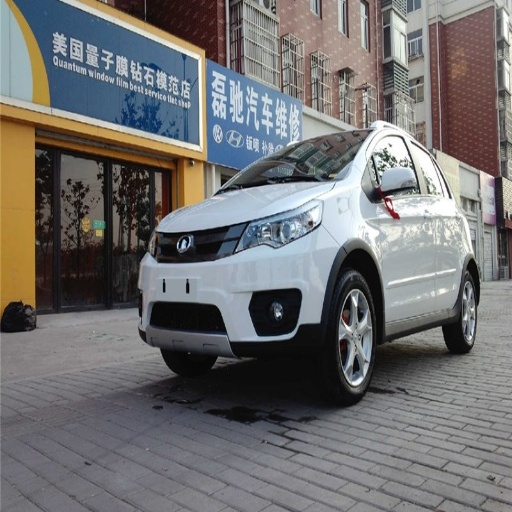front_bumper: (137, 221, 339, 357)
front_glass: (225, 132, 363, 190)
front_left_door: (368, 129, 434, 320)
